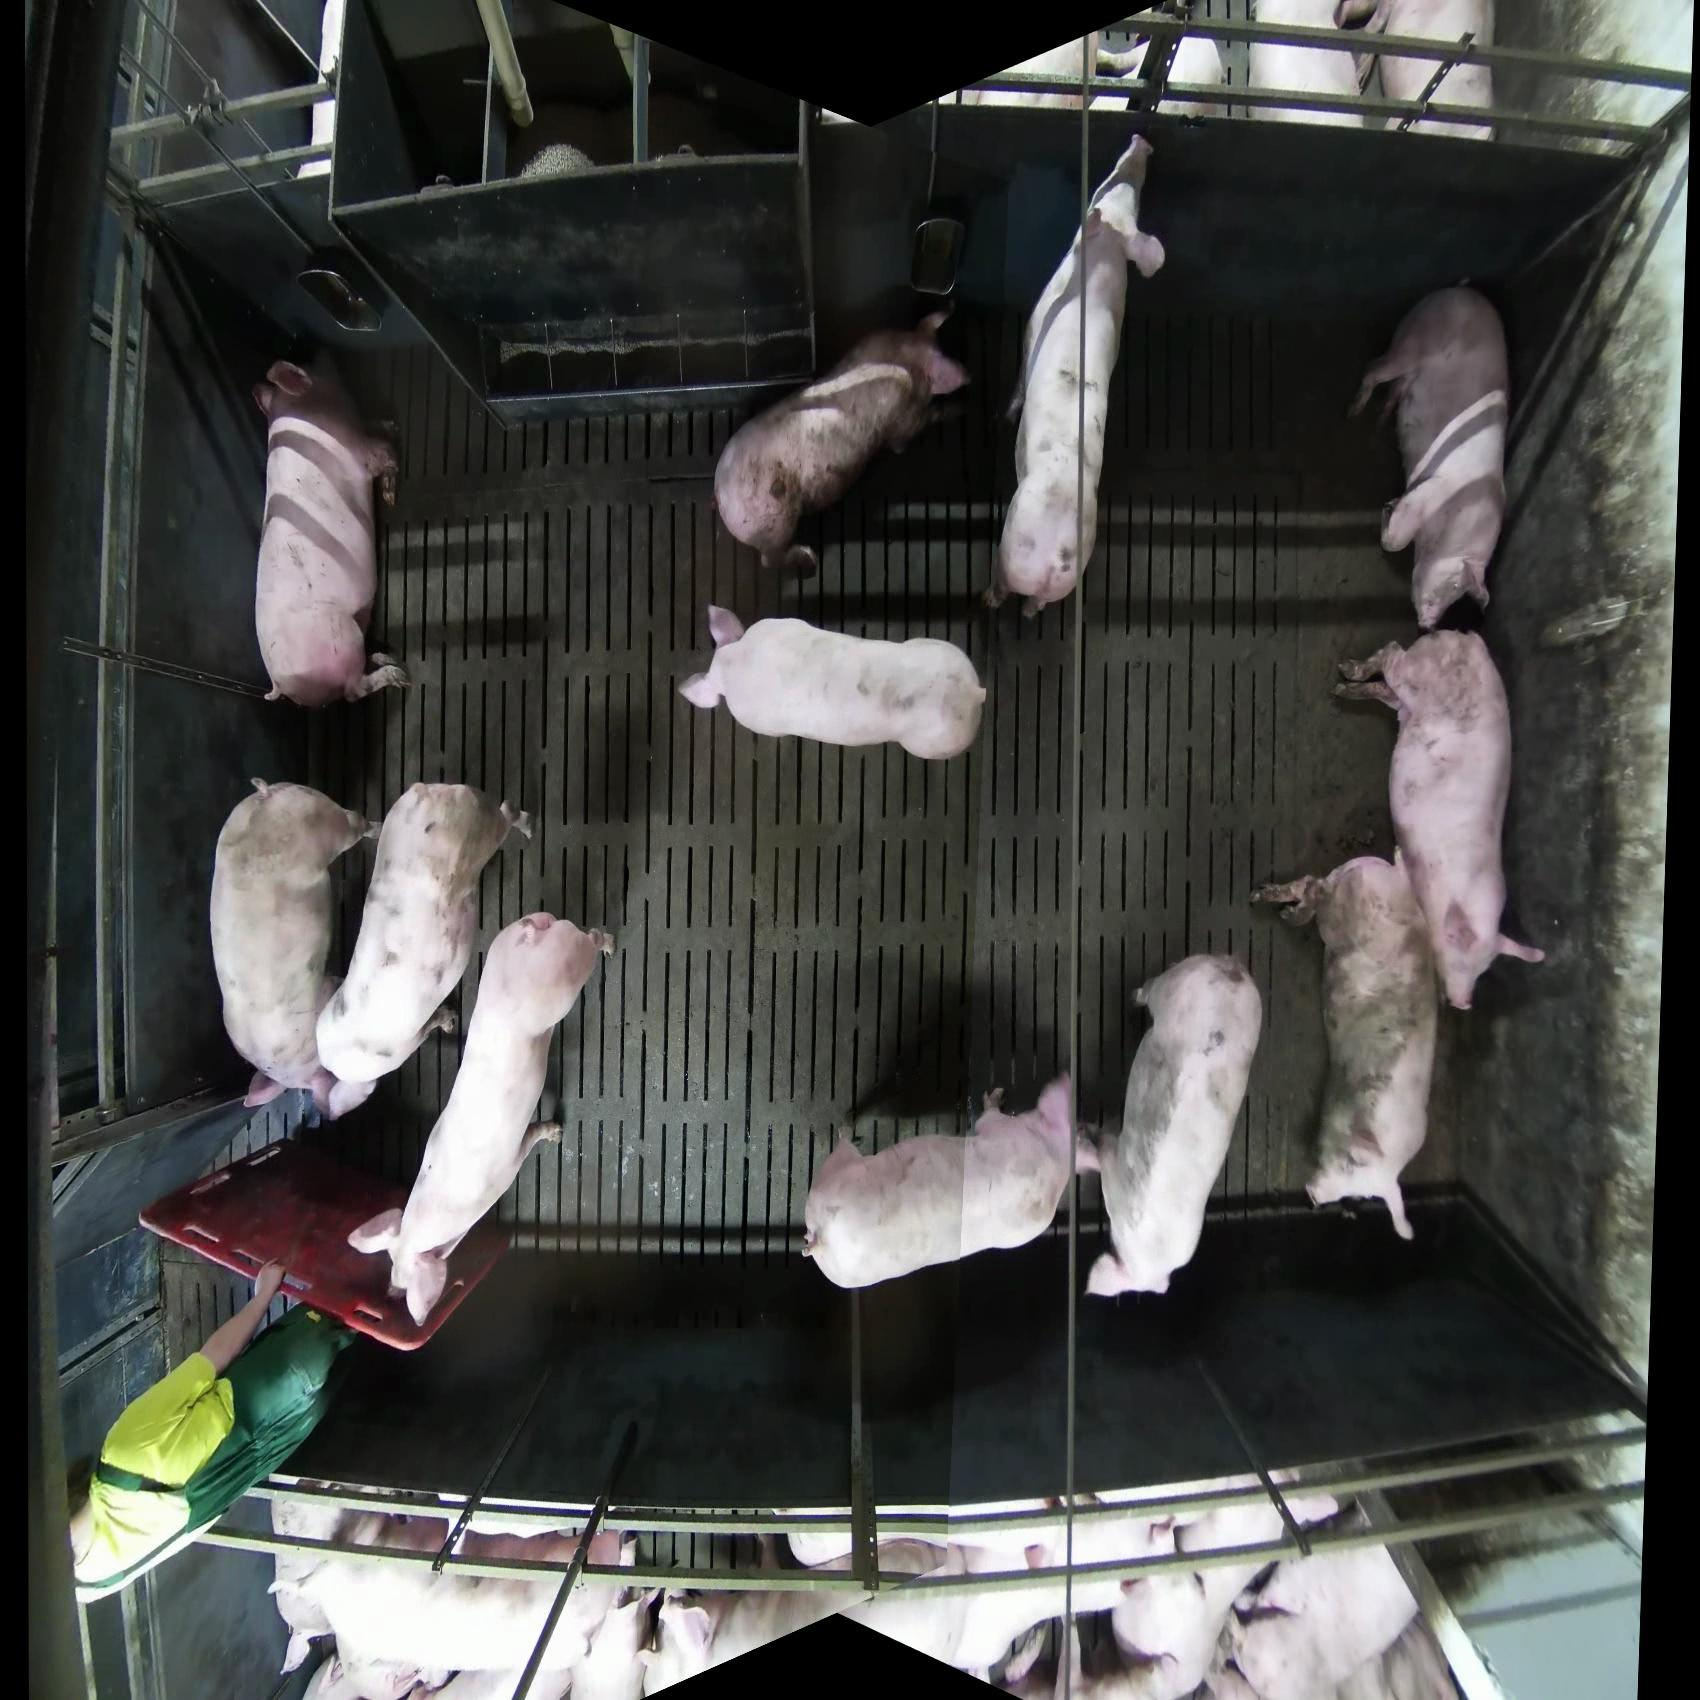pig: (347, 910, 613, 1327), (982, 133, 1167, 621), (1331, 627, 1546, 1013), (1251, 852, 1440, 1241), (314, 780, 533, 1113), (269, 1508, 639, 1700), (711, 307, 971, 574), (799, 1071, 1093, 1291), (1082, 951, 1264, 1300), (209, 777, 380, 1124), (1347, 278, 1512, 630), (251, 346, 408, 710), (1200, 1497, 1461, 1700), (987, 1515, 1268, 1700), (676, 604, 988, 762), (1111, 1491, 1344, 1695), (785, 1529, 1055, 1679), (1336, 1, 1498, 141), (1248, 1, 1378, 128), (1096, 27, 1227, 122)
worker: (67, 1256, 360, 1603)
